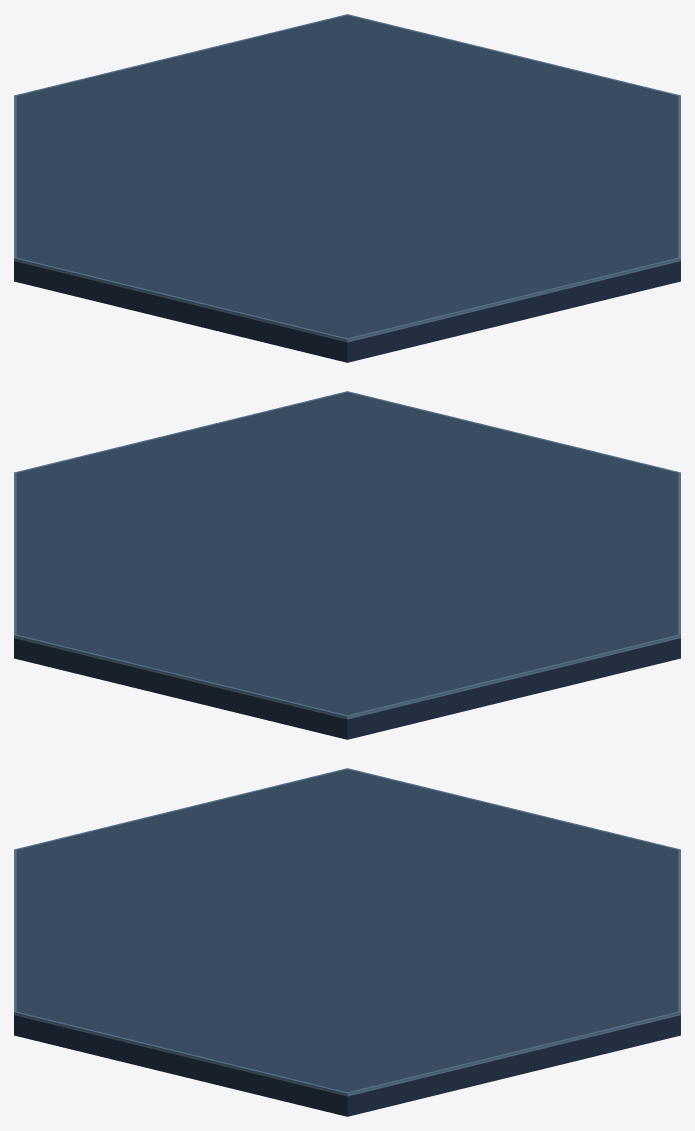
The model's file is campus_base_hex_v01.glb.
3 views of the same model, one above another, from view 1: azimuth 30°, elevation 25°; view 2: azimuth 150°, elevation 25°; view 3: azimuth 270°, elevation 25° (orthographic).
Visible parts, largest first — view 1: campus_base_hex; view 2: campus_base_hex; view 3: campus_base_hex.
Boxes of the visible parts, x1,y1,x2,y2 form: campus_base_hex: (14, 14, 680, 362); campus_base_hex: (14, 391, 680, 739); campus_base_hex: (14, 768, 680, 1116).
Bounding box in the file's own units: 36 × 1.2 × 31.18.
1 material, 1 textured.
